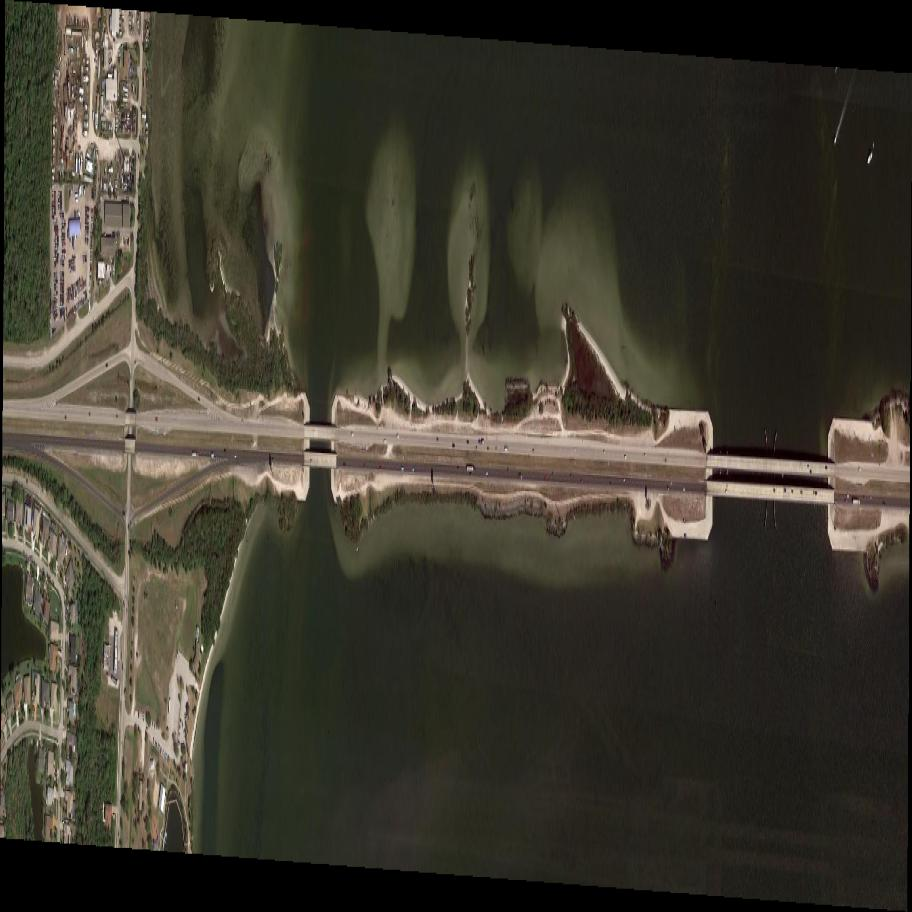large-vehicle: (467, 466, 474, 472), (191, 453, 199, 457), (853, 500, 860, 504)
